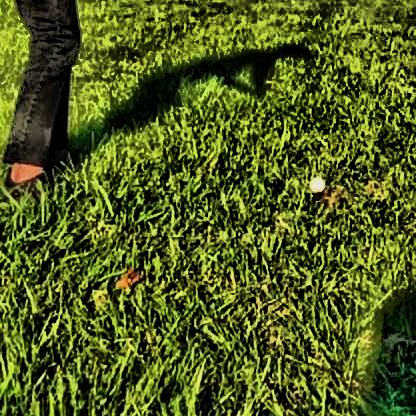golfball: (305, 172, 322, 191)
